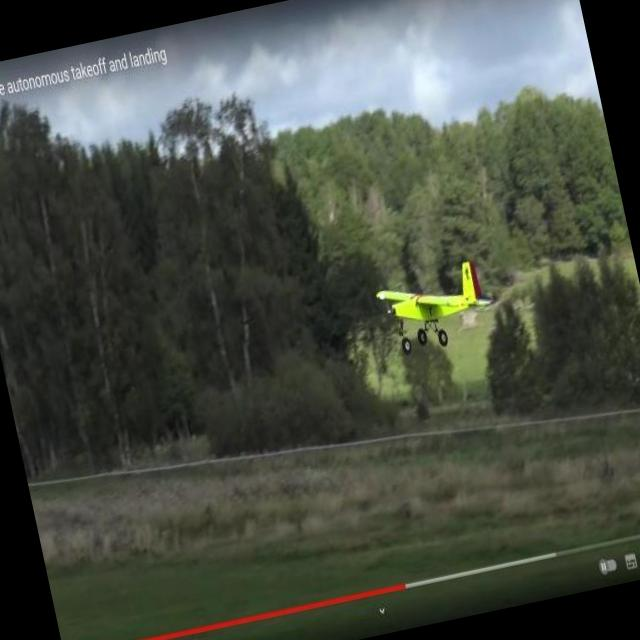UAV: (372, 252, 523, 378)
